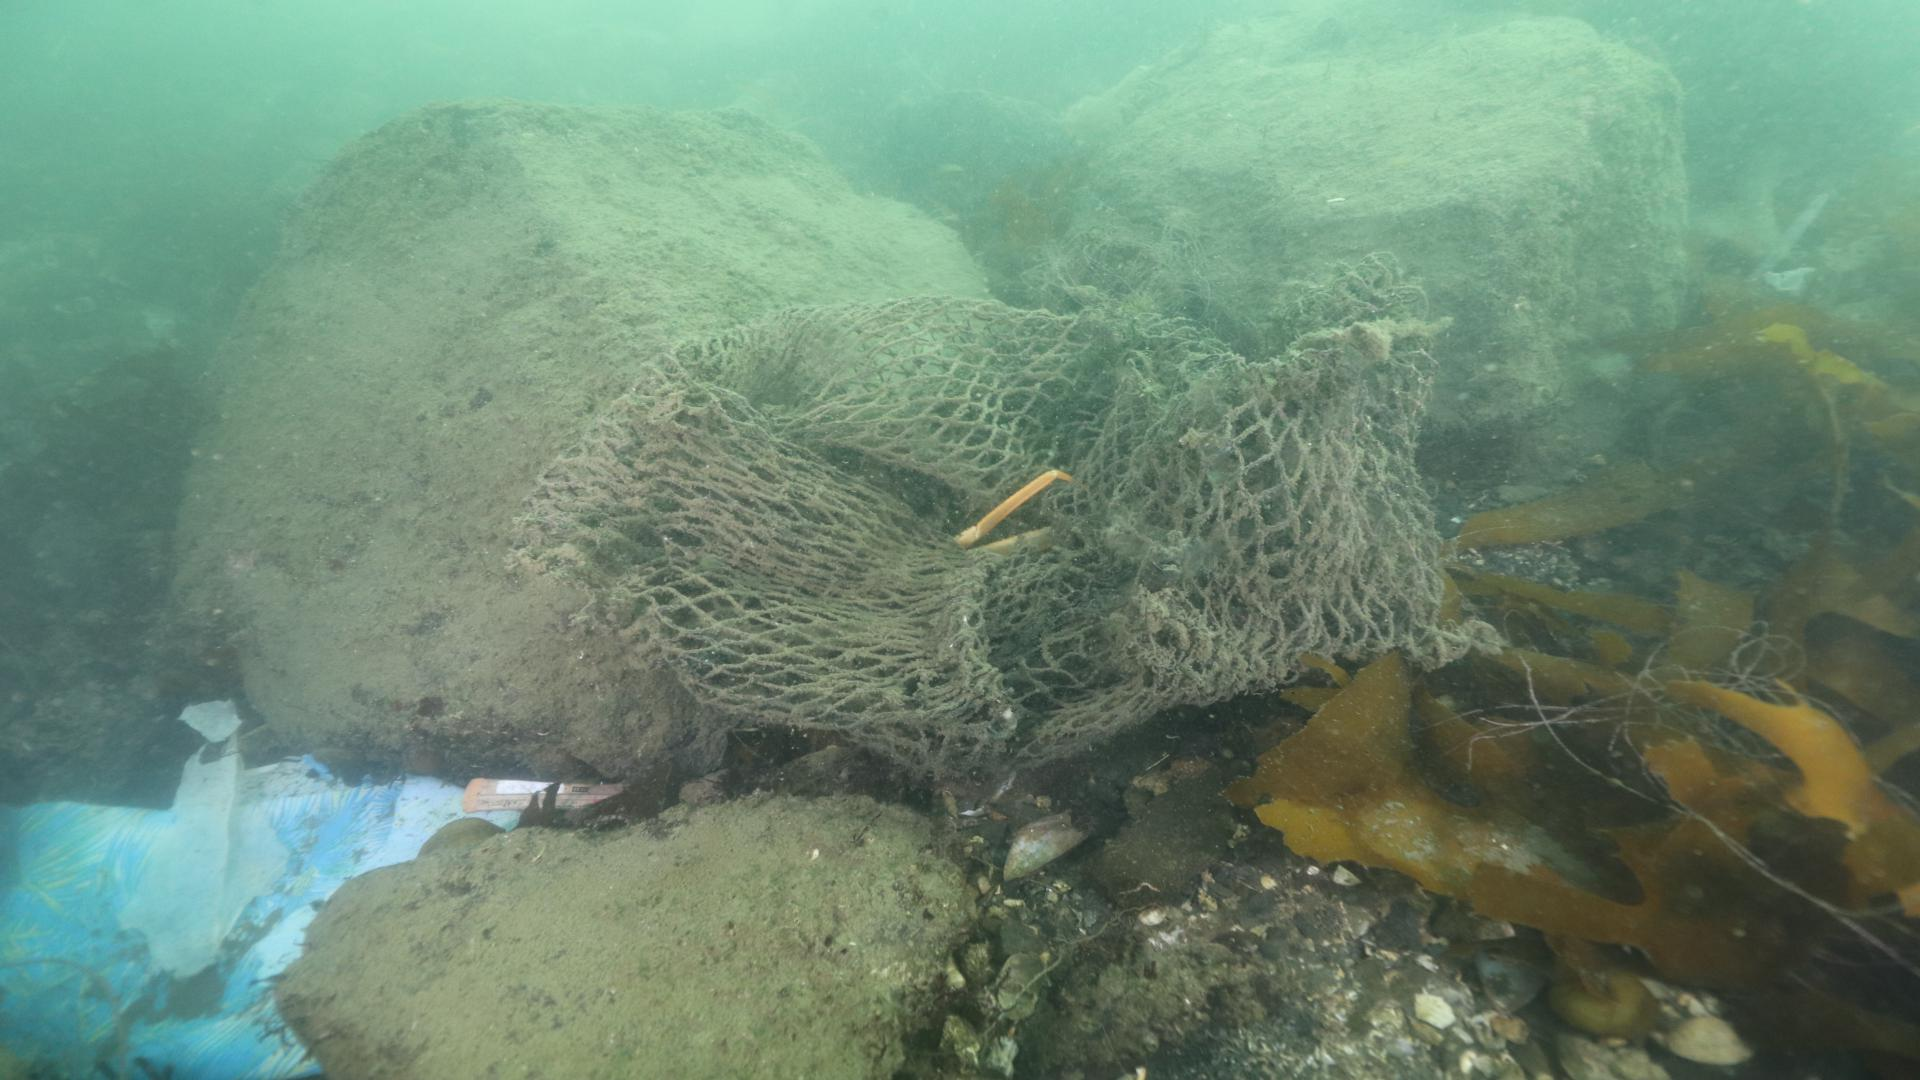fish net: (504, 293, 1505, 778)
